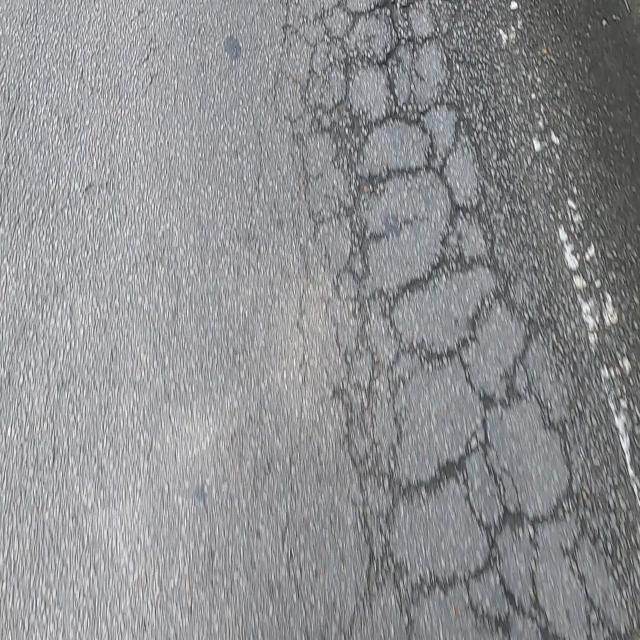Retak-Buaya: (276, 0, 634, 640)
